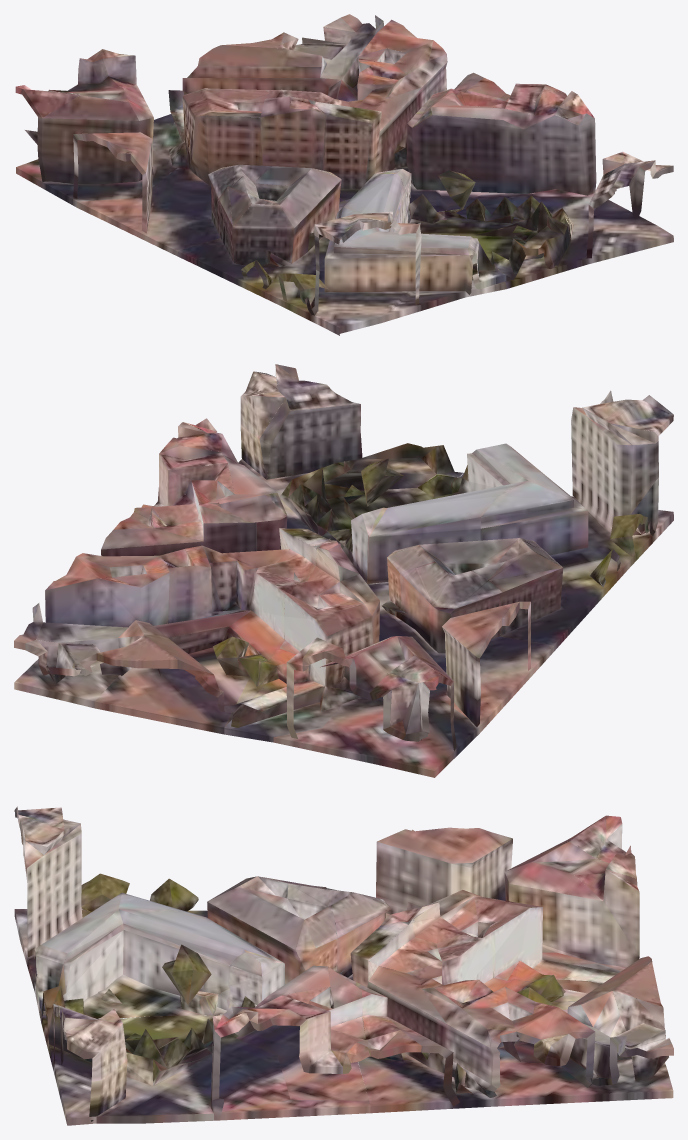
3 renders of one model, top to bottom at view 1: azimuth 30°, elevation 25°; view 2: azimuth 150°, elevation 25°; view 3: azimuth 270°, elevation 25°, orthographic. The views are drawn at different scales.
Visible parts, largest first — view 1: Mesh_0; view 2: Mesh_0; view 3: Mesh_0.
Boxes of the visible parts, x1,y1,x2,y2 form: Mesh_0: (15,14,673,335); Mesh_0: (14,364,673,777); Mesh_0: (14,806,673,1125).
Size of the model in its own units: 134 by 41.02 by 165.
Materials: 2 (2 with a texture image).
